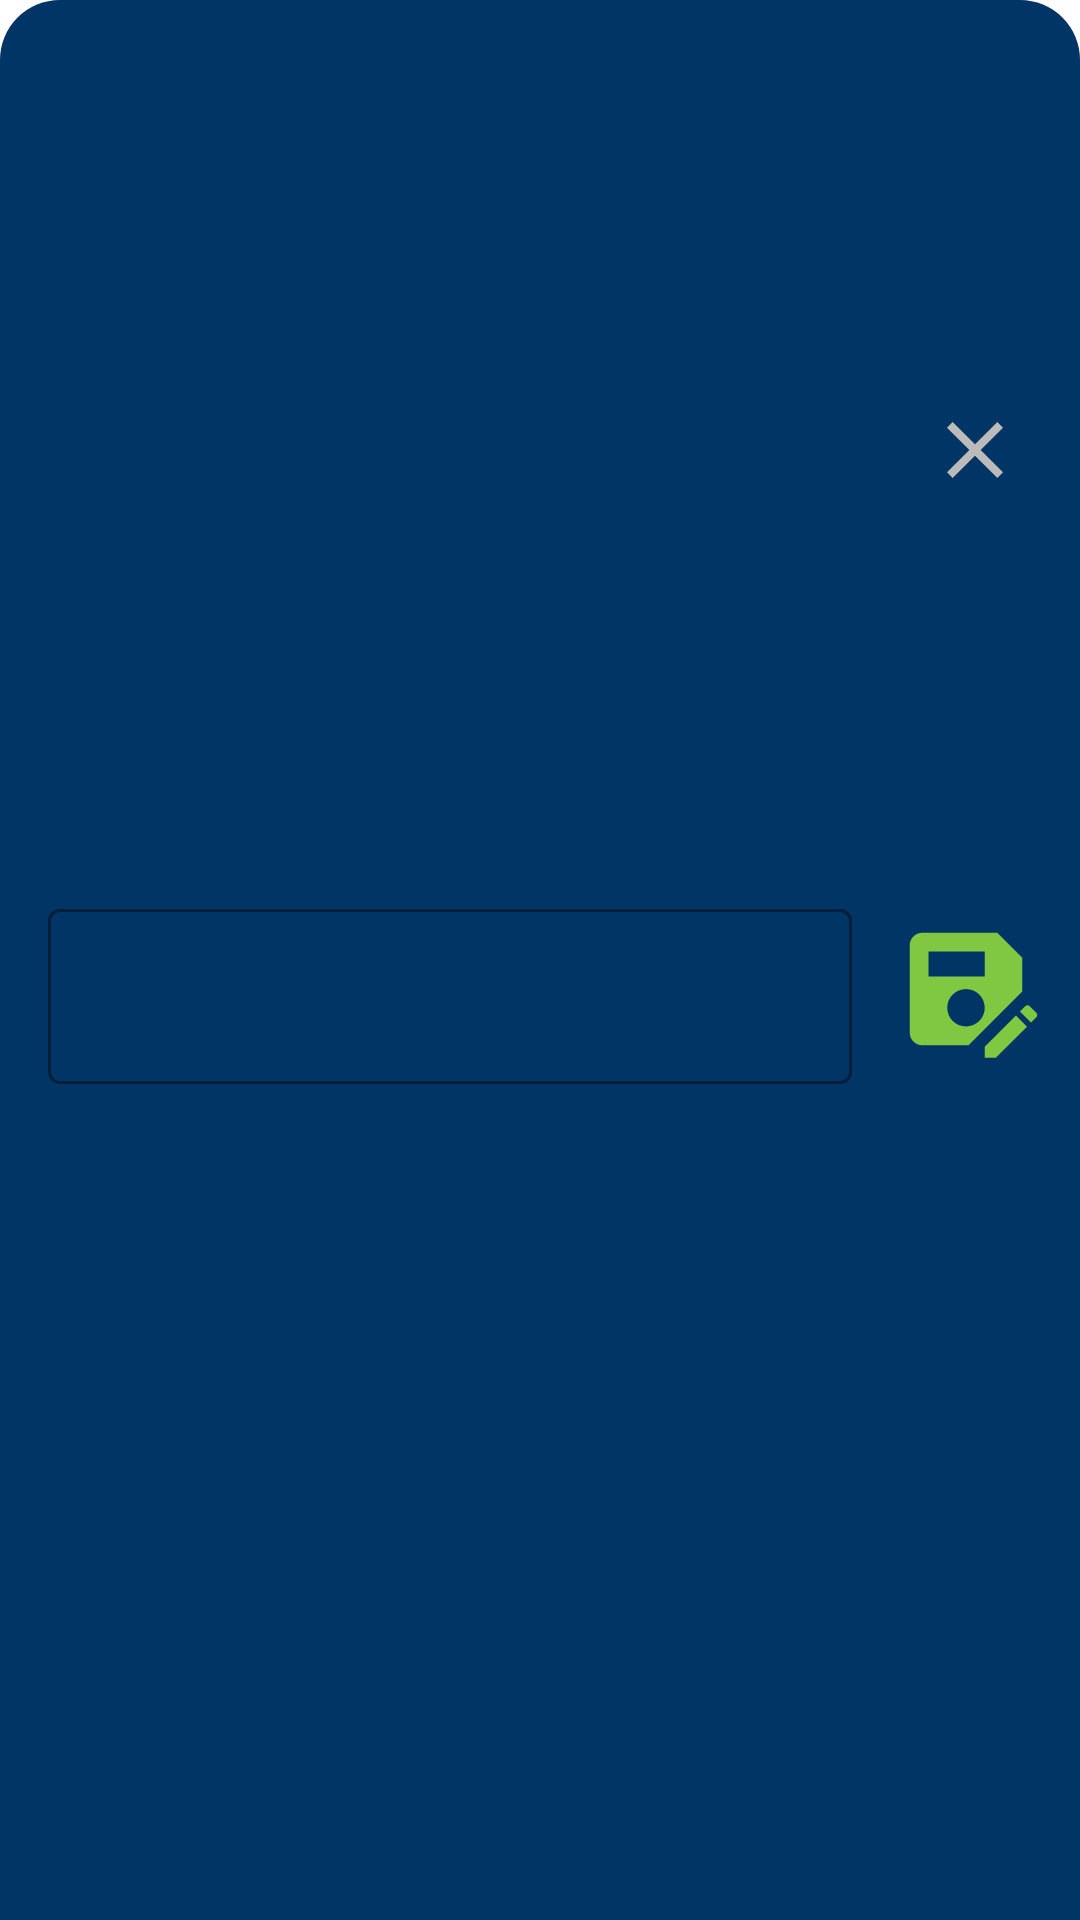

Icon click points for this 1080px x 1920px phone screenshot, format (x,y):
Close: (975,450)
Modify: (973,995)
